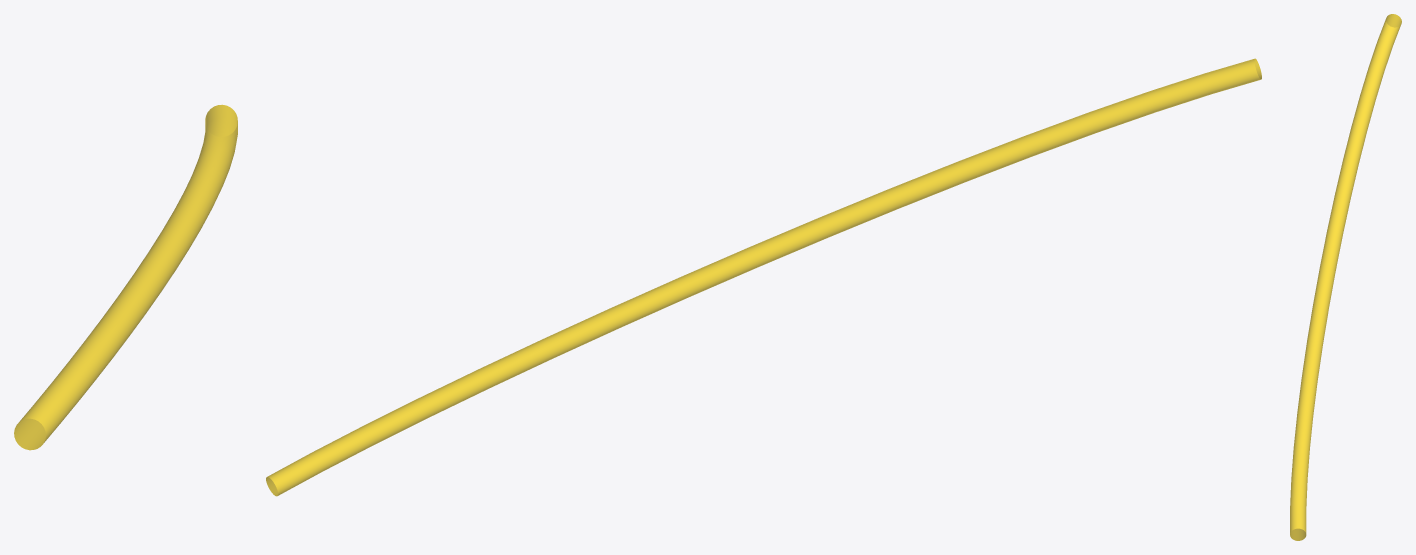
Rendered from Event_75125125_track_72.fbx.
The picture shows the model from 3 angles, left to right: view 1: azimuth 90°, elevation 25°; view 2: azimuth 210°, elevation 25°; view 3: azimuth 270°, elevation 25°; orthographic projection. The views are drawn at different scales.
Parts seen in each view (by area): view 1: Model; view 2: Model; view 3: Model.
Boxes of the visible parts, x1,y1,x2,y2 form: Model: [14, 104, 237, 450]; Model: [266, 58, 1261, 496]; Model: [1290, 14, 1401, 540].
Bounding box in the file's own units: 1.95 × 0.5195 × 0.273.
